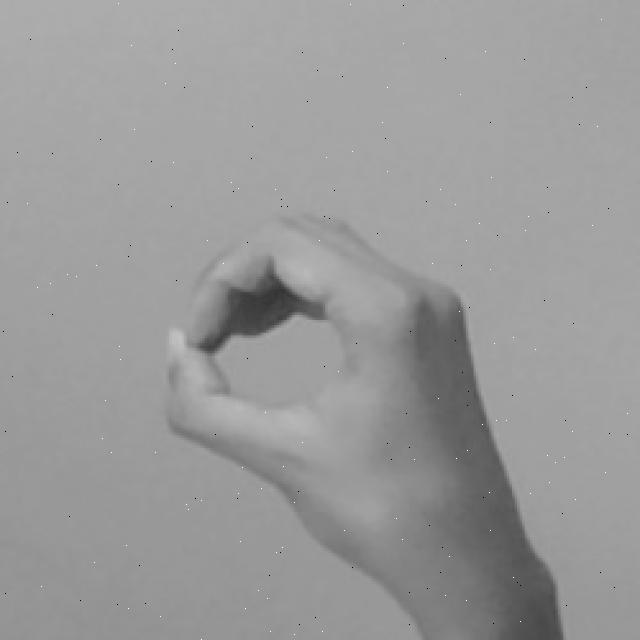O: (152, 206, 578, 640)
